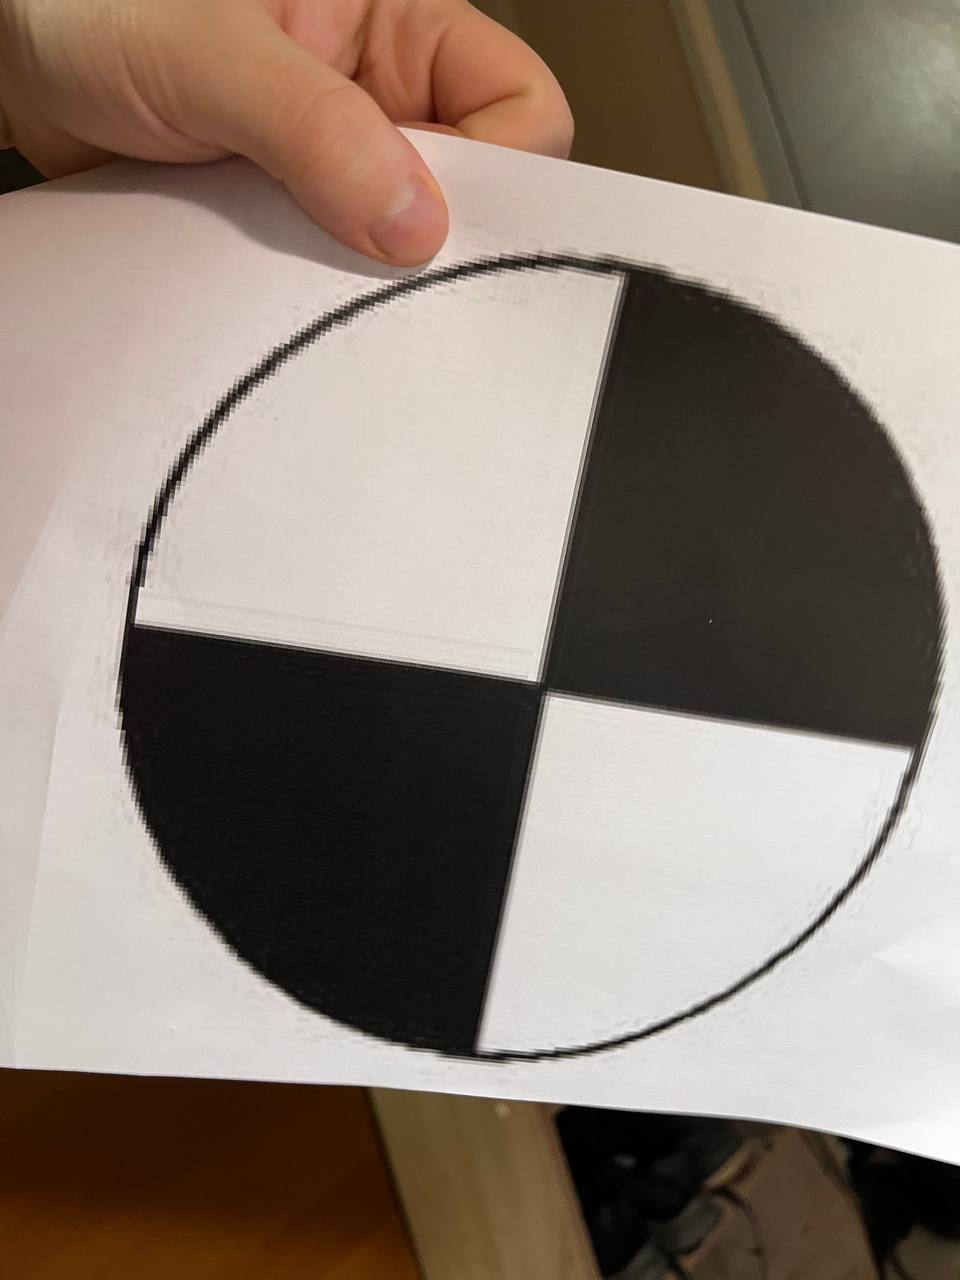pattern: (116, 249, 942, 1063)
